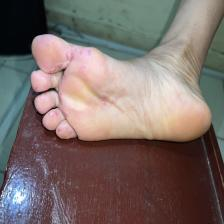DA: (37, 36, 71, 72), (93, 84, 116, 120), (74, 46, 94, 71)
